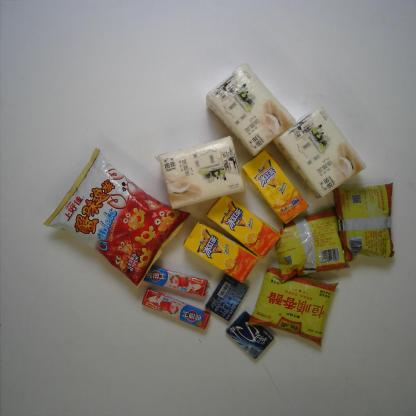Candy: (141, 288, 211, 329), (142, 265, 210, 297)
Drink: (241, 149, 309, 225), (182, 220, 259, 284), (206, 195, 282, 258)
Gum: (225, 310, 274, 360), (204, 273, 250, 323)
Puffed Food: (43, 146, 192, 290)
Seasoner: (246, 267, 339, 347), (274, 207, 352, 284), (332, 182, 395, 264)
Tissue: (272, 105, 368, 200), (204, 63, 298, 156), (156, 135, 247, 210)
